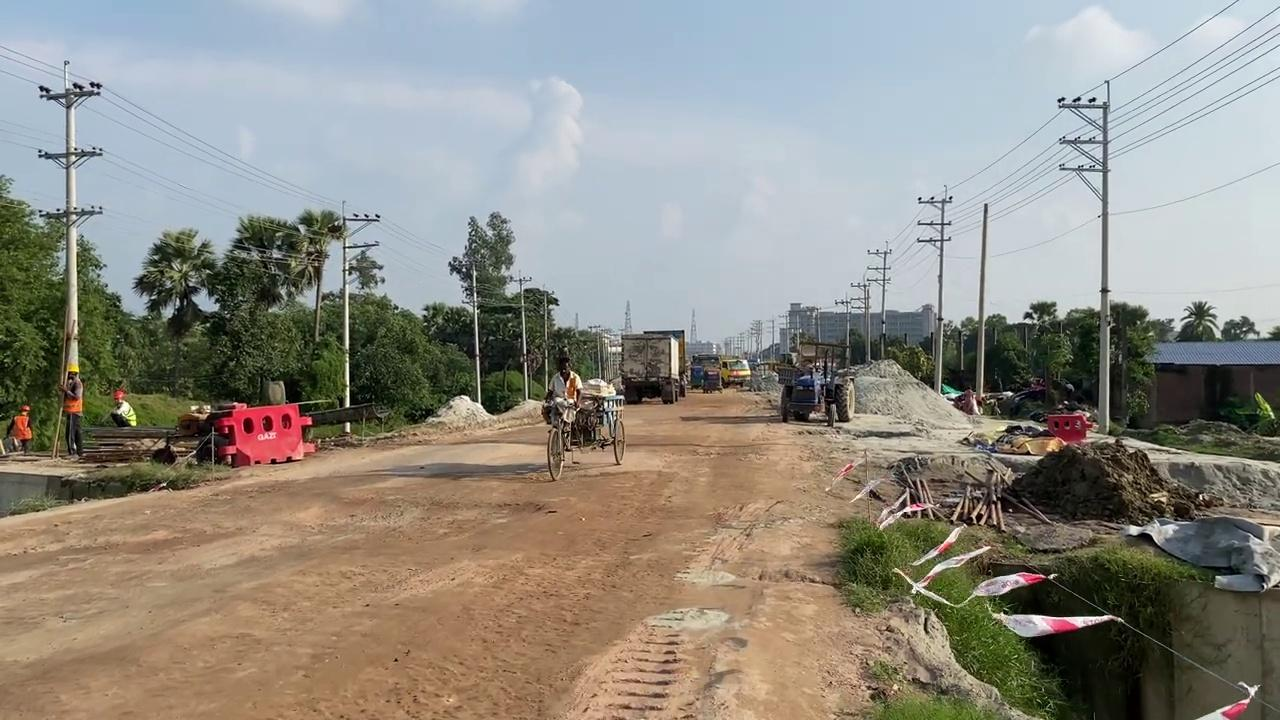Construction-barrier: (212, 401, 315, 466)
Pole: (36, 60, 103, 457), (1097, 80, 1111, 434), (974, 202, 988, 398)
Railroad-crossing: (543, 386, 626, 481)
Traffic-sign: (131, 225, 218, 396), (447, 209, 516, 406), (1175, 298, 1218, 341)
Tree: (776, 341, 855, 426), (619, 330, 686, 404), (689, 352, 723, 391), (700, 364, 722, 393)
